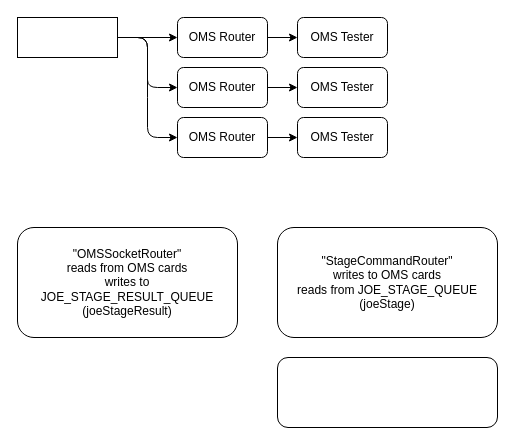
This 515x445 diagram has some shape labels left out. The shapes that lost their labels are listed below. From the top down, each one's centre as x and y in pixels, then its label:
point 67,37: Main Program
point 387,392: "SocketTester" writes to OMS cards
